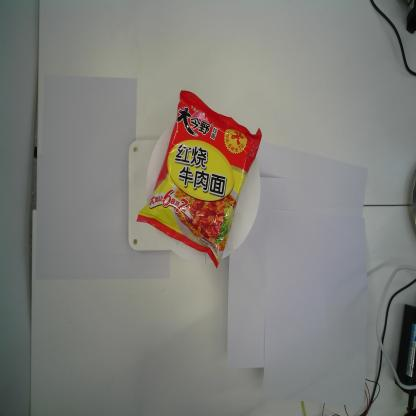Instant Noodles: (135, 89, 262, 269)
